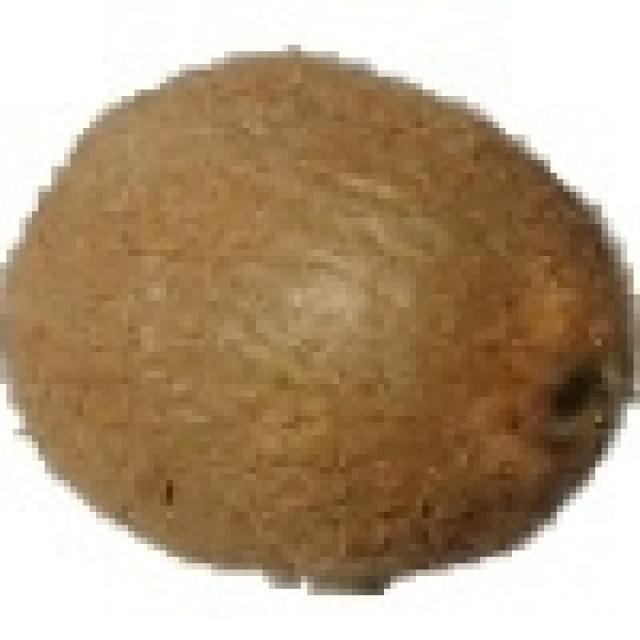kiwi: (6, 45, 614, 576)
